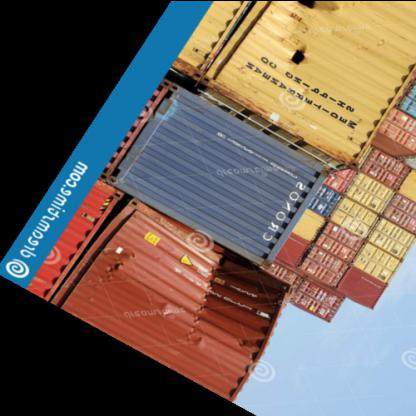Damage: (193, 248, 279, 324), (278, 35, 316, 73), (282, 1, 338, 21)
